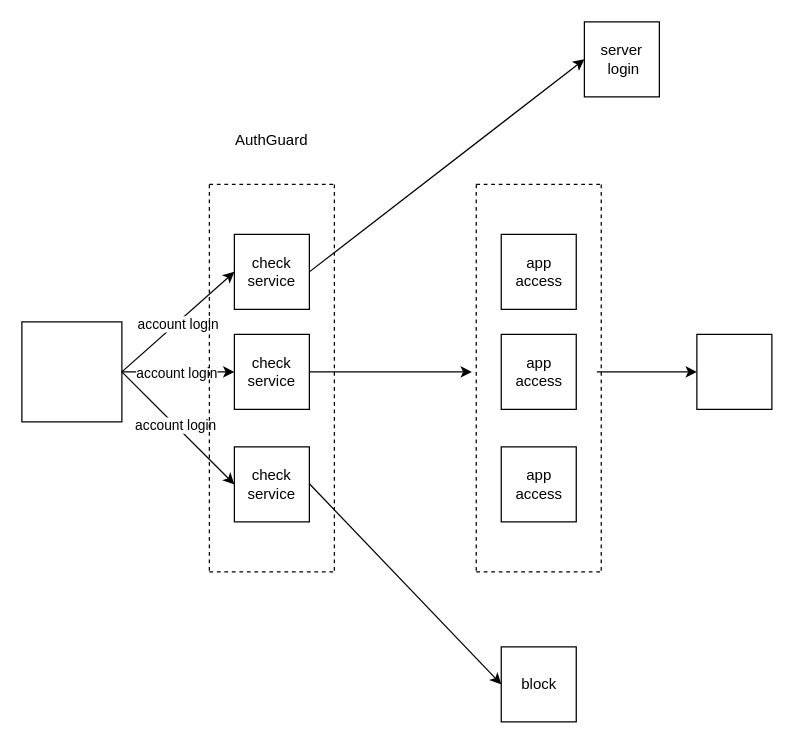
This 794x744 diagram has some shape labels left out. Each missing label, with the centre of its shape:
Client (intruder): the point at 71,371
database: the point at 734,371
